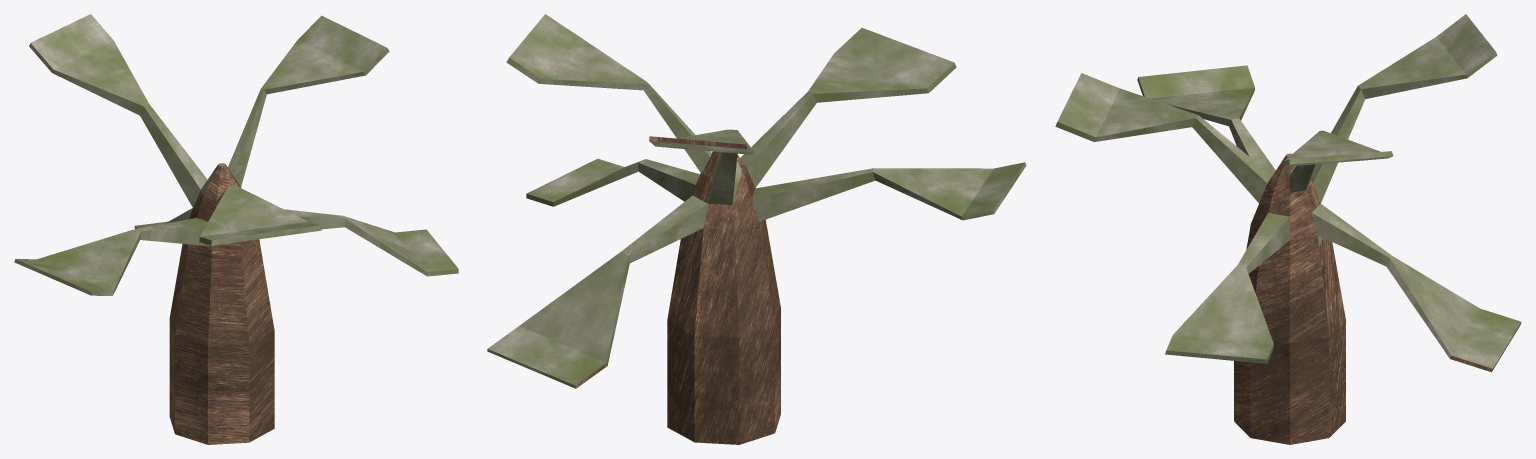
File: palma3.glb
3 renders of one model, left to right at view 1: azimuth 30°, elevation 25°; view 2: azimuth 150°, elevation 25°; view 3: azimuth 270°, elevation 25°, orthographic. The views are drawn at different scales.
Parts seen in each view (by area): view 1: Cylinder; view 2: Cylinder; view 3: Cylinder.
Part boxes in pixels (bbox=[...]): Cylinder: bbox=[14, 14, 458, 444]; Cylinder: bbox=[487, 14, 1026, 444]; Cylinder: bbox=[1055, 14, 1521, 444].
Bounding box in the file's own units: 4.89 × 3.8 × 4.54.
1 material, 1 textured.
